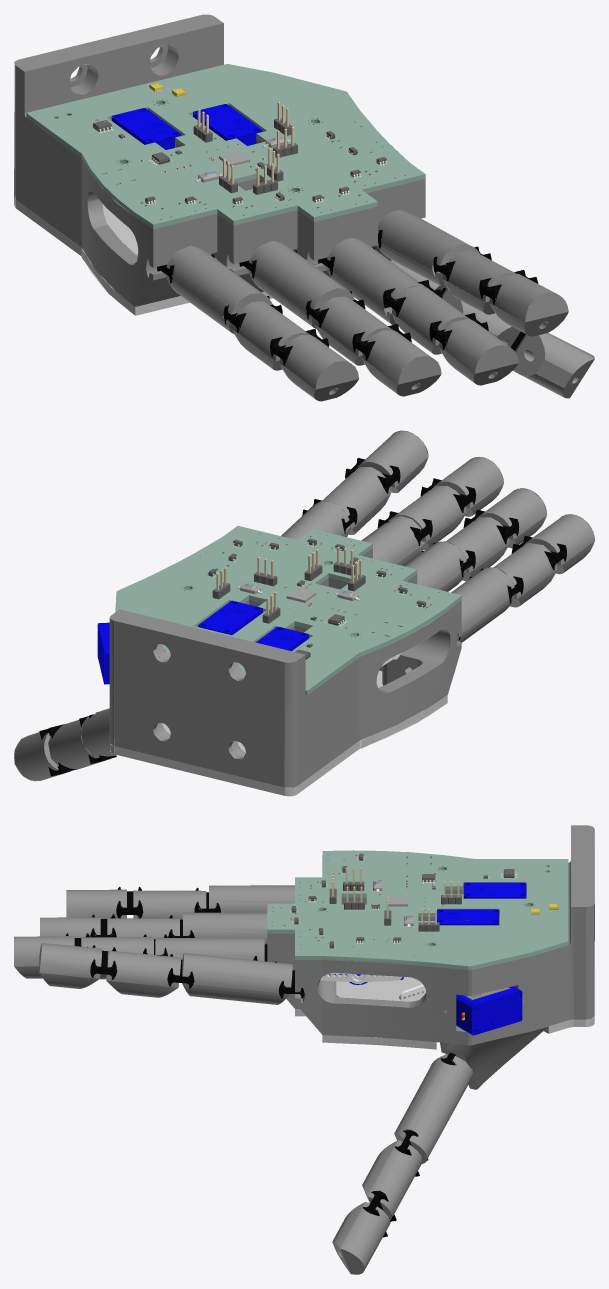
File: HandDecimatedCompressed.glb
The picture shows the model from 3 angles, top to bottom: view 1: azimuth 30°, elevation 25°; view 2: azimuth 150°, elevation 25°; view 3: azimuth 270°, elevation 25°; orthographic projection. The views are drawn at different scales.
Parts seen in each view (by area): view 1: eecsc206a_PCB; view 2: eecsc206a_PCB; view 3: eecsc206a_PCB.
Part boxes in pixels (bbox=[...]): eecsc206a_PCB: bbox=[14, 14, 594, 401]; eecsc206a_PCB: bbox=[14, 430, 594, 796]; eecsc206a_PCB: bbox=[14, 825, 594, 1274].
Size of the model in its own units: 3.07 by 2.12 by 4.01.
